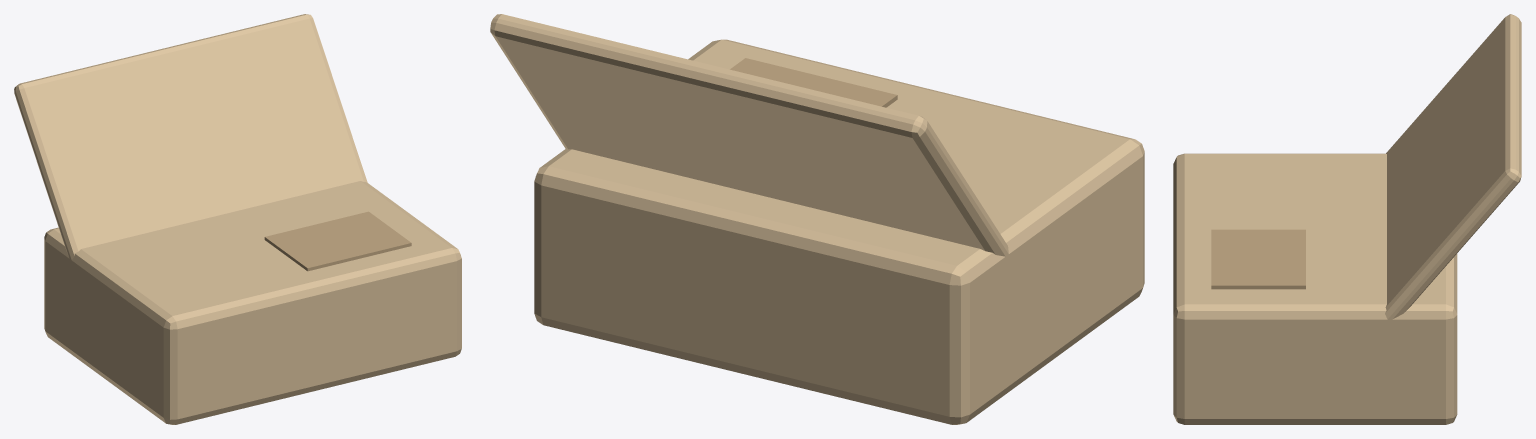
The model's file is takeout_box.fbx.
The picture shows the model from 3 angles, left to right: view 1: azimuth 30°, elevation 25°; view 2: azimuth 150°, elevation 25°; view 3: azimuth 270°, elevation 25°; orthographic projection. The views are drawn at different scales.
Visible parts, largest first — view 1: takeout_box; view 2: takeout_box; view 3: takeout_box.
Boxes of the visible parts, x1,y1,x2,y2 form: takeout_box: (14, 14, 461, 424); takeout_box: (490, 14, 1144, 424); takeout_box: (1173, 14, 1521, 424).
Bounding box in the file's own units: 0.2 × 0.1502 × 0.1839.
